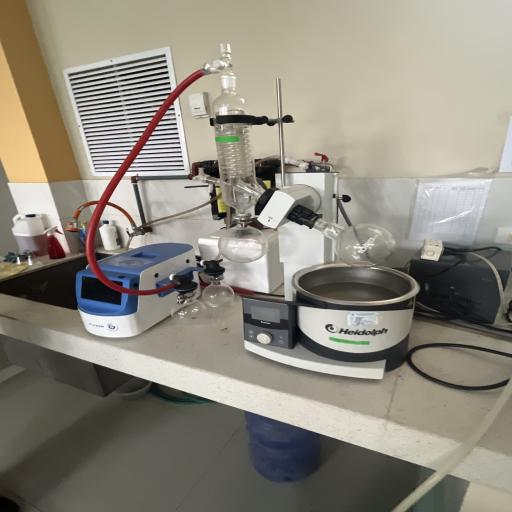Sistema_Rotaevaporacion: (66, 38, 429, 384)
